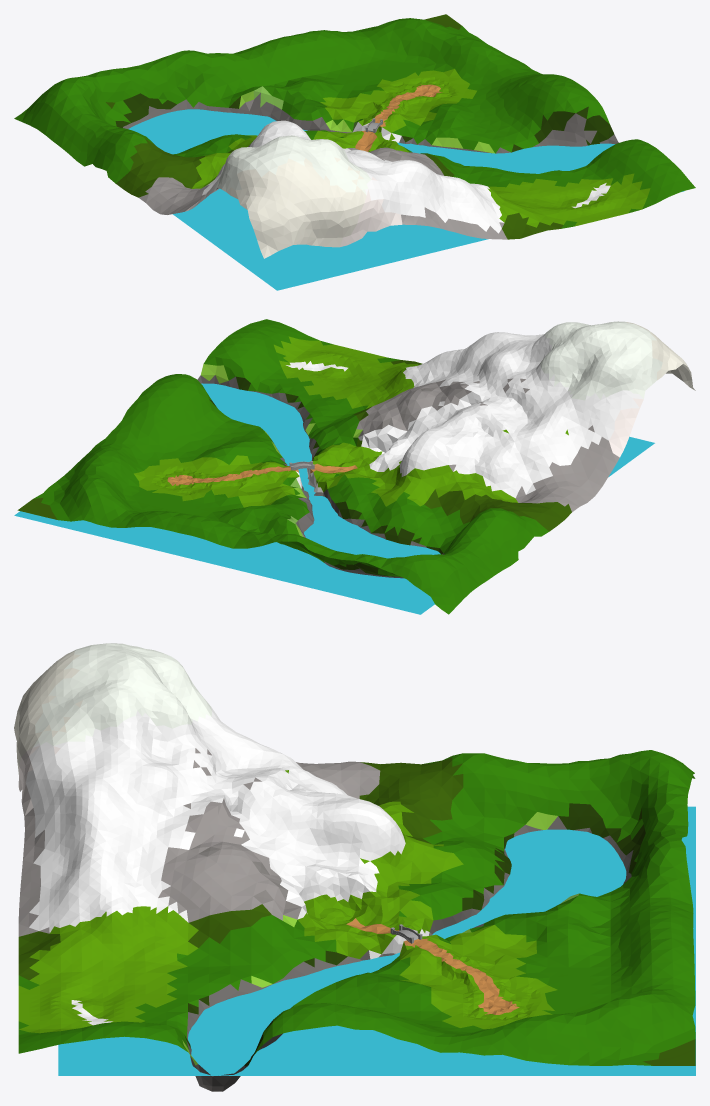
The model's file is FinalLandscape1.fbx.
3 views of the same model, one above another, from view 1: azimuth 30°, elevation 25°; view 2: azimuth 150°, elevation 25°; view 3: azimuth 270°, elevation 25° (orthographic). The views are drawn at different scales.
Visible parts, largest first — view 1: Plane, Plane.001; view 2: Plane, Plane.001; view 3: Plane, Plane.001.
Boxes of the visible parts, x1,y1,x2,y2 form: Plane: (14,14,695,258); Plane.001: (128,109,684,290); Plane: (17,319,695,614); Plane.001: (14,383,654,614); Plane: (14,643,695,1091); Plane.001: (58,806,695,1075).
Size of the model in its own units: 11440 by 3770 by 11383.
